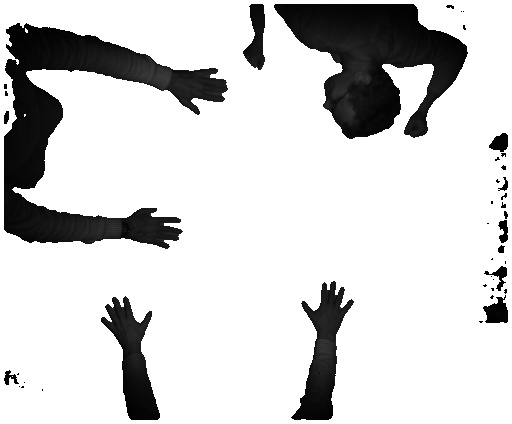fist: (403, 113, 431, 143), (240, 46, 271, 71)
hand: (298, 280, 359, 337), (96, 296, 151, 350), (172, 69, 231, 119), (127, 208, 183, 255)
